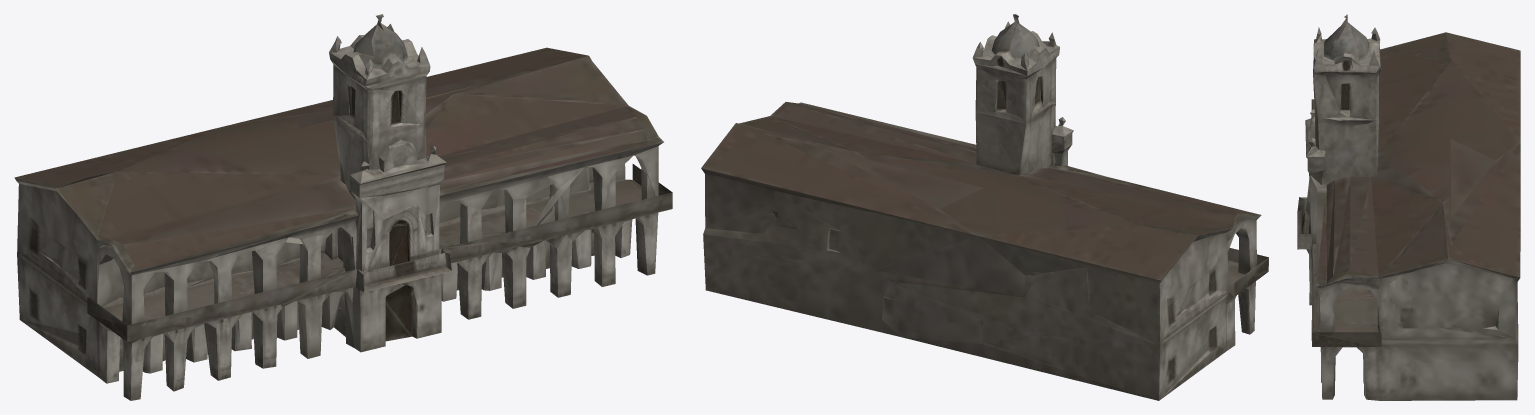
File: cabildo.glb
The picture shows the model from 3 angles, left to right: view 1: azimuth 30°, elevation 25°; view 2: azimuth 150°, elevation 25°; view 3: azimuth 270°, elevation 25°; orthographic projection. The views are drawn at different scales.
Bounding box in the file's own units: 1.9 × 1.04 × 0.7685.
Materials: 1 (1 with a texture image).
